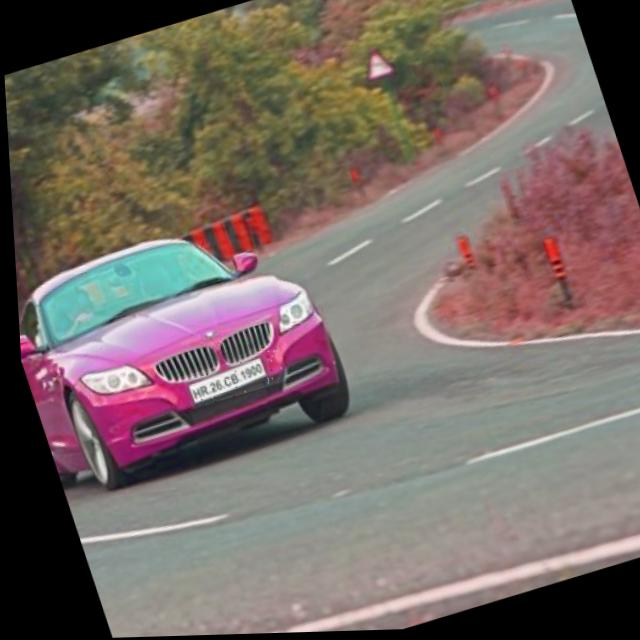license_plate: (176, 348, 286, 410)
